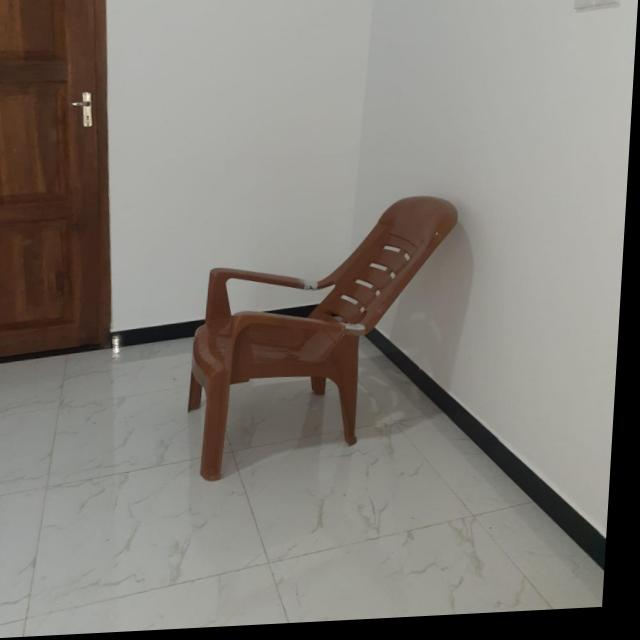Chair: (188, 198, 462, 486)
